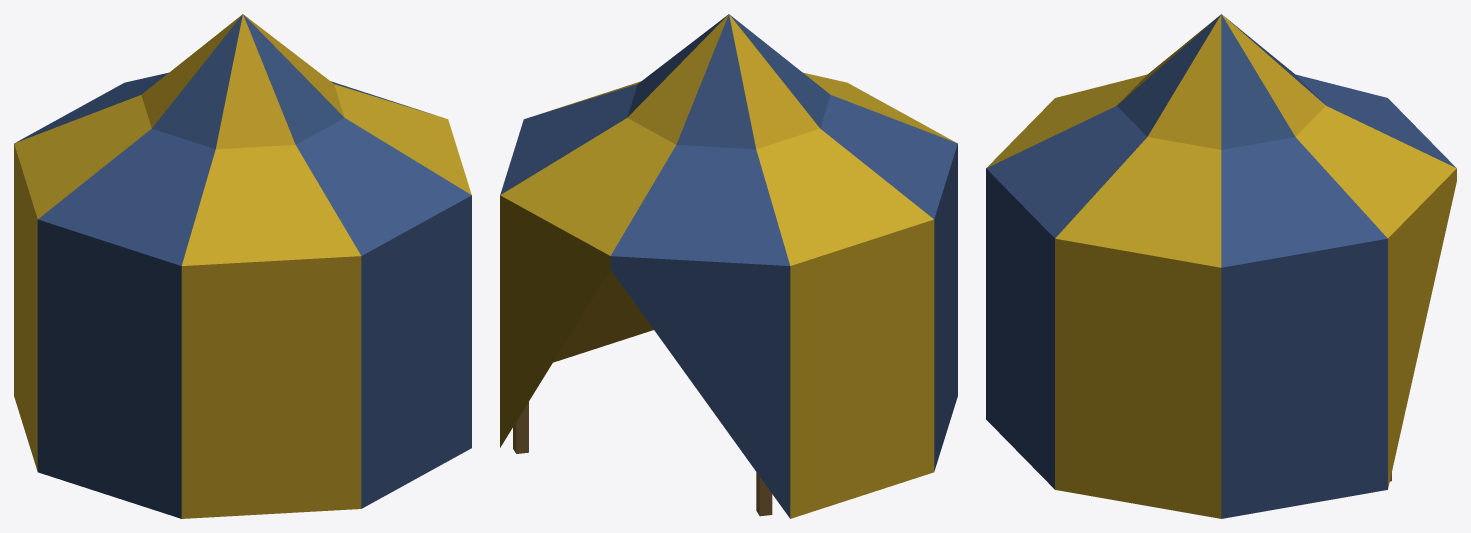
File: Tent_02.gltf
3 renders of one model, left to right at view 1: azimuth 30°, elevation 25°; view 2: azimuth 150°, elevation 25°; view 3: azimuth 270°, elevation 25°, orthographic.
Visible parts, largest first — view 1: SF_BLd_Tent_02; view 2: SF_BLd_Tent_02; view 3: SF_BLd_Tent_02.
Part boxes in pixels (box(x1,y1,x2,y2)): SF_BLd_Tent_02: box(14, 14, 471, 518); SF_BLd_Tent_02: box(500, 14, 957, 518); SF_BLd_Tent_02: box(986, 14, 1456, 518).
Bounding box in the file's own units: 0.0685 × 0.0651 × 0.0685.
Materials: 1 (1 with a texture image).
